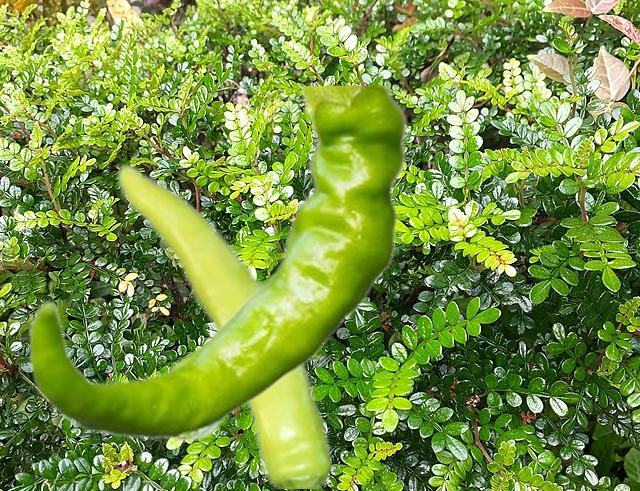green_chili: (28, 86, 408, 442), (116, 161, 330, 487)
